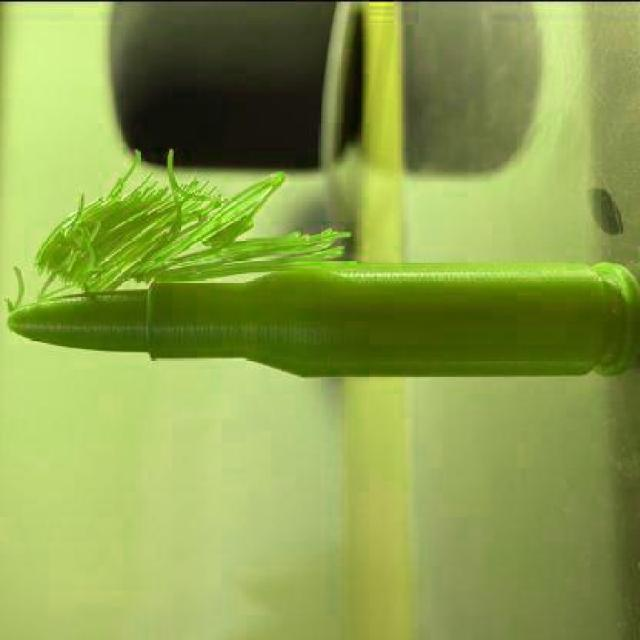Spaghetti: (10, 149, 350, 303)
